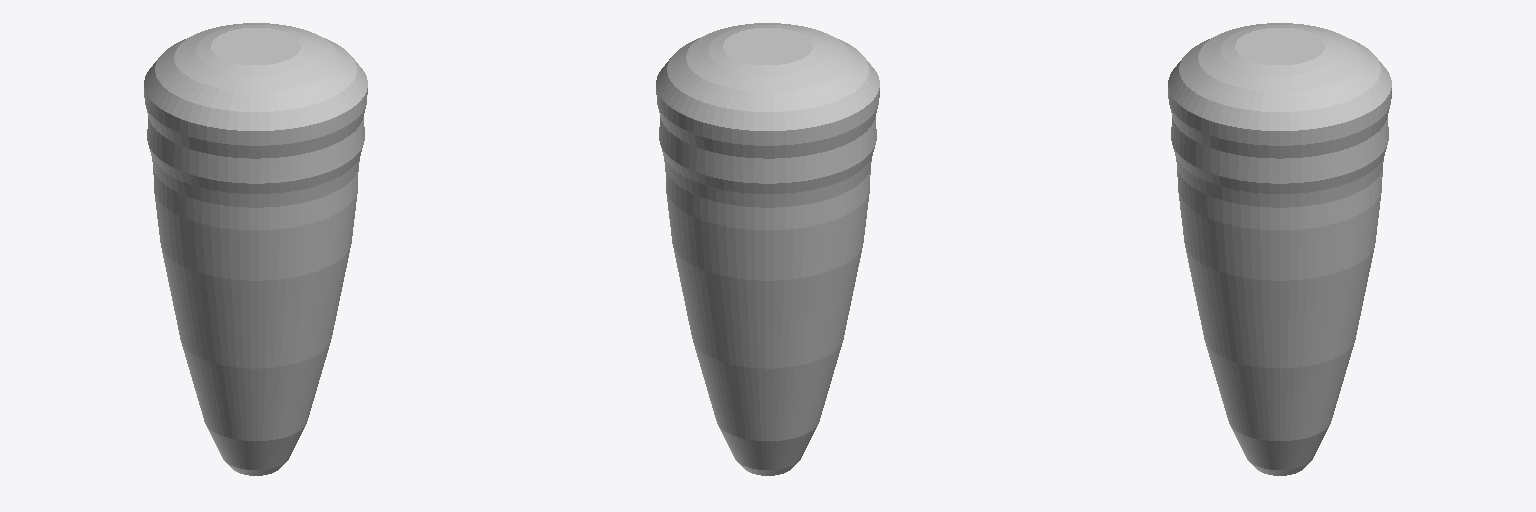
Rendered from carrot.obj.
3 renders of one model, left to right at view 1: azimuth 30°, elevation 25°; view 2: azimuth 150°, elevation 25°; view 3: azimuth 270°, elevation 25°, orthographic.
Visible parts, largest first — view 1: carrot; view 2: carrot; view 3: carrot.
Boxes of the visible parts, <box> form: carrot: <box>144,23,367,475</box>; carrot: <box>656,23,879,475</box>; carrot: <box>1168,23,1391,475</box>.
Size of the model in its own units: 1.03 by 2.12 by 1.03.